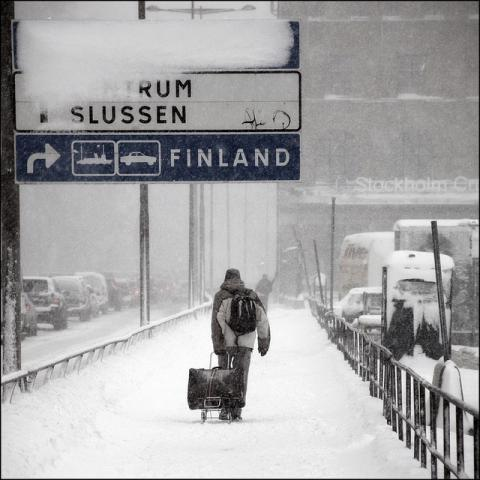car: (334, 284, 384, 332), (24, 278, 71, 327), (52, 275, 92, 322), (72, 273, 109, 314), (20, 275, 37, 341), (150, 276, 178, 306), (107, 277, 124, 312), (87, 284, 100, 318)
truck: (398, 220, 480, 270), (337, 232, 393, 302), (73, 272, 108, 314)
